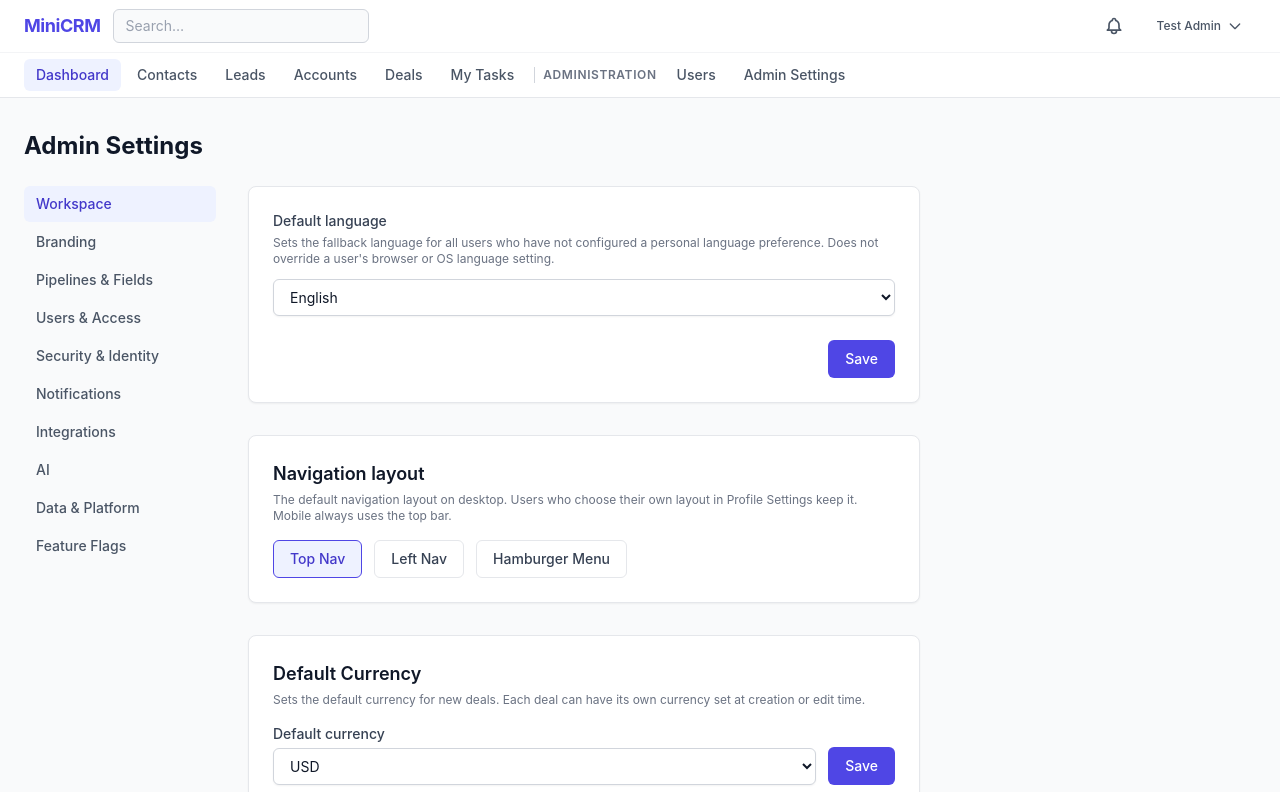
AdminSettingsPage › save action › shows success message after a successful save
Select "French" in the dropdown with test id "default-language-select". click: (584, 298)
box: [273, 279, 895, 316]
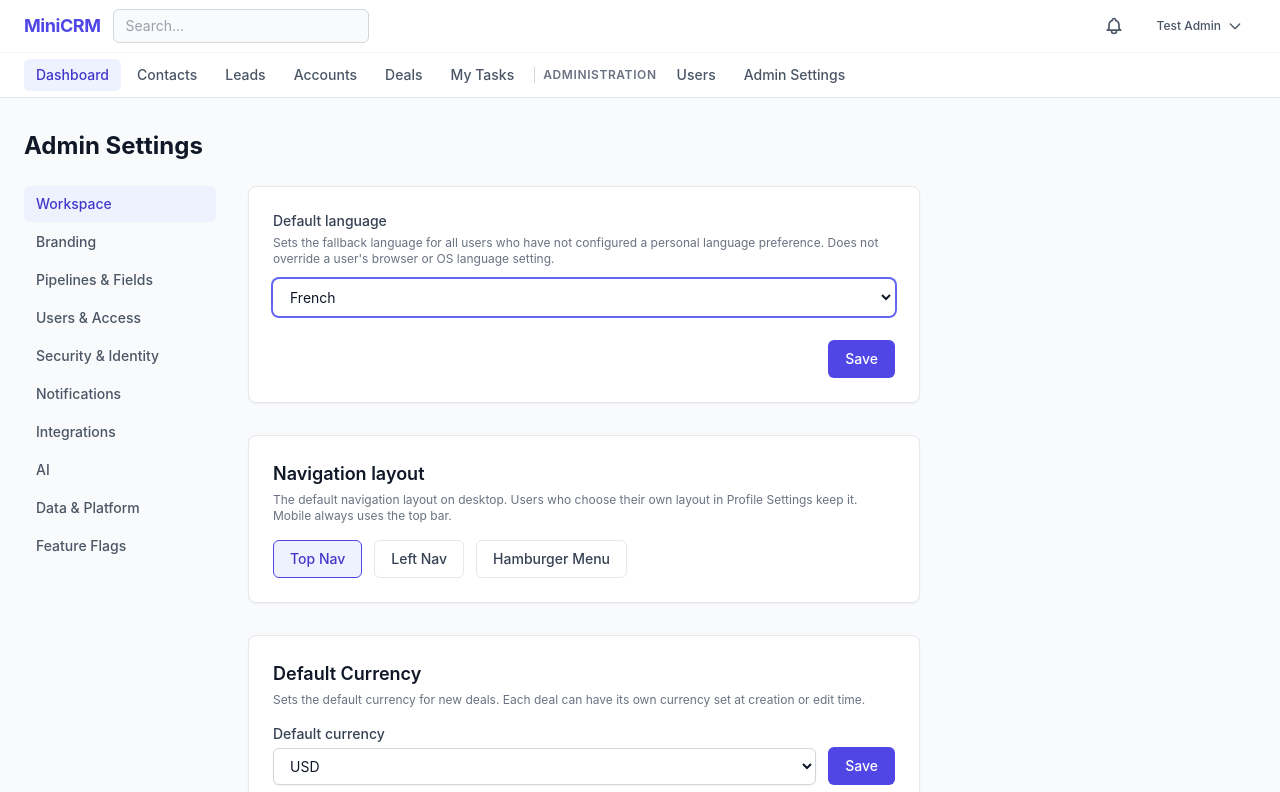
Click the button with test id "settings-save". click: (862, 359)
box: [828, 340, 895, 378]
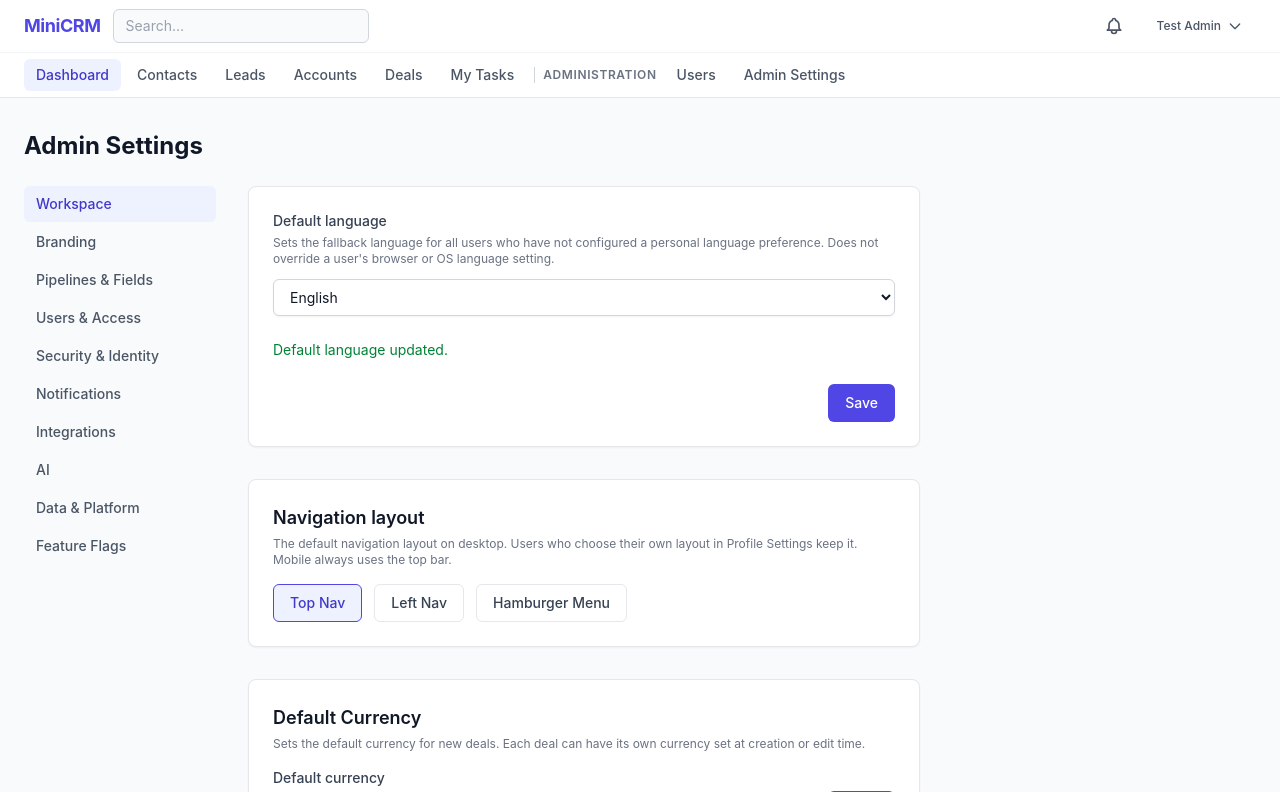
Result: the message "Default language updated." is shown at [273, 341, 448, 358]
